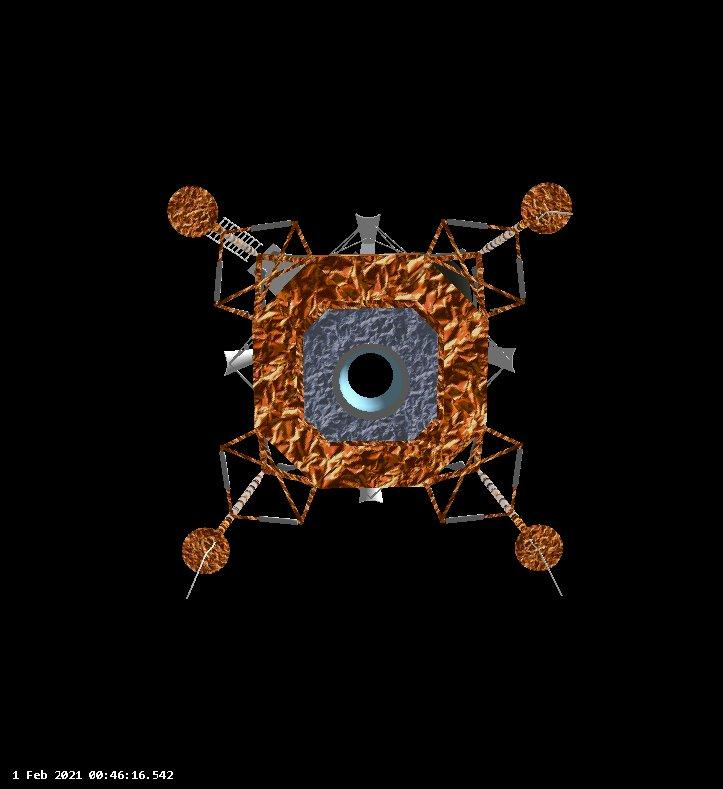antenna: (510, 521, 570, 603), (179, 522, 232, 603), (331, 211, 413, 254), (519, 179, 576, 238), (166, 181, 220, 241), (485, 326, 519, 400), (220, 334, 258, 395), (350, 486, 392, 505)
body: (248, 248, 491, 494)
thruster: (329, 339, 413, 419)
